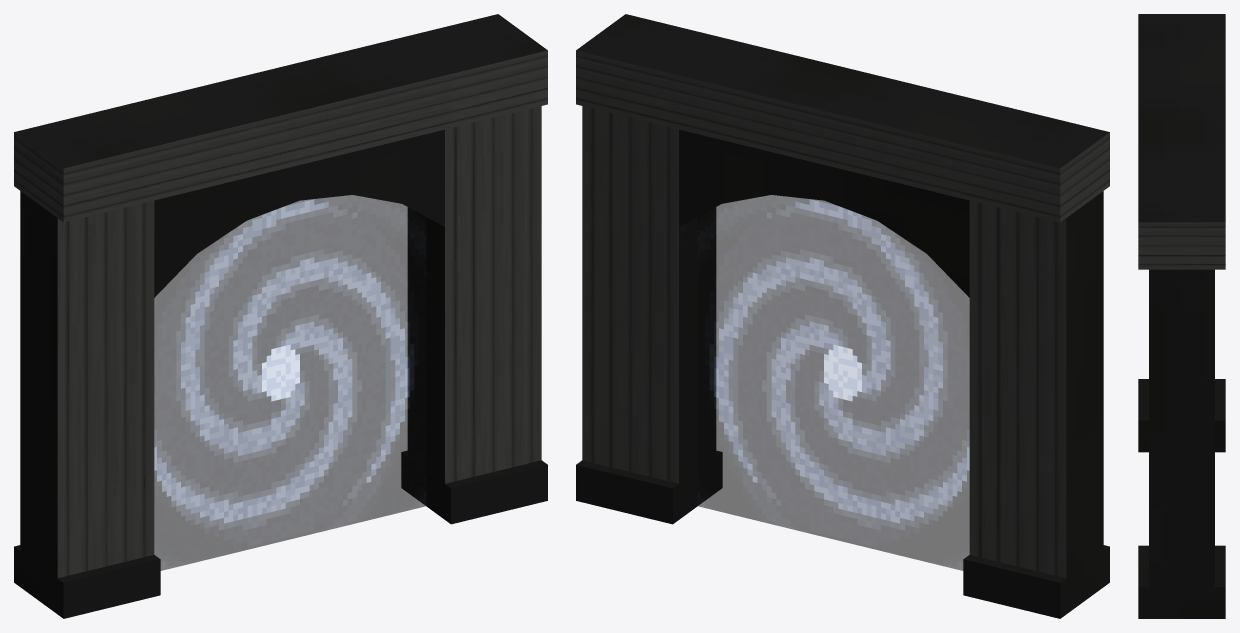
File: marble_portal.glb
3 views of the same model, side by side, from view 1: azimuth 30°, elevation 25°; view 2: azimuth 150°, elevation 25°; view 3: azimuth 270°, elevation 25° (orthographic). The views are drawn at different scales.
Visible parts, largest first — view 1: MarblePortal; view 2: MarblePortal; view 3: MarblePortal.
Boxes of the visible parts, bbox=[...] form: MarblePortal: bbox=[14, 14, 547, 618]; MarblePortal: bbox=[576, 14, 1109, 618]; MarblePortal: bbox=[1138, 14, 1225, 618].
Size of what is drawn, in the model's own units: 4.5 by 4 by 0.8.
6 materials, 6 textured.
